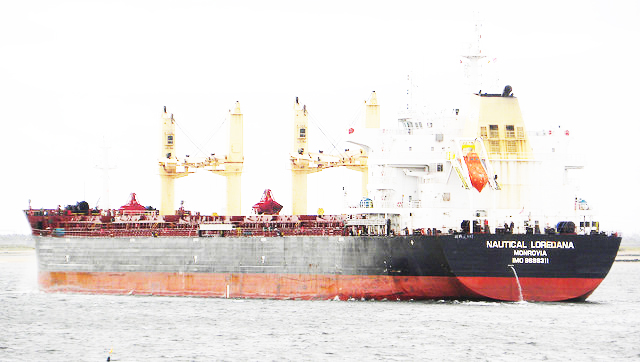bulk carrier: (27, 15, 625, 307)
